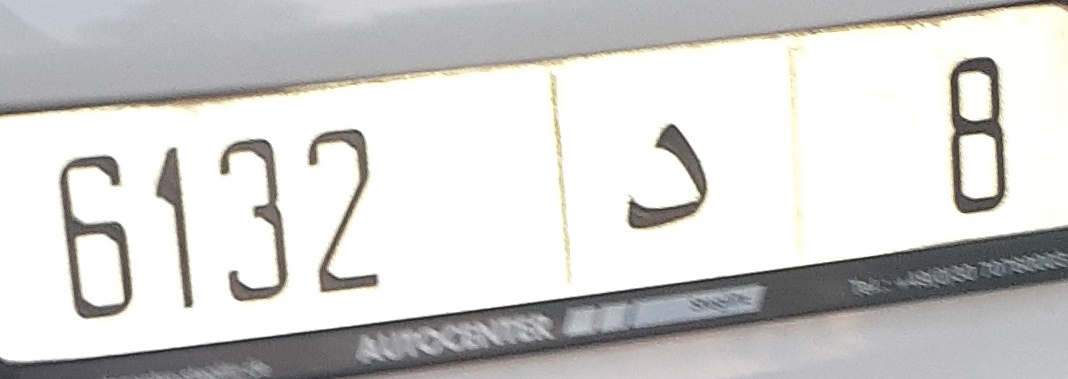1: (149, 144, 209, 306)
2: (306, 123, 388, 298)
3: (214, 133, 292, 305)
6: (52, 151, 141, 325)
8: (940, 53, 1013, 214)
d: (616, 113, 713, 234)
